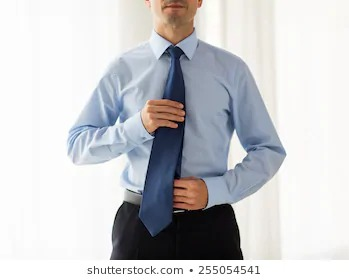F_tie: (133, 35, 193, 242)
